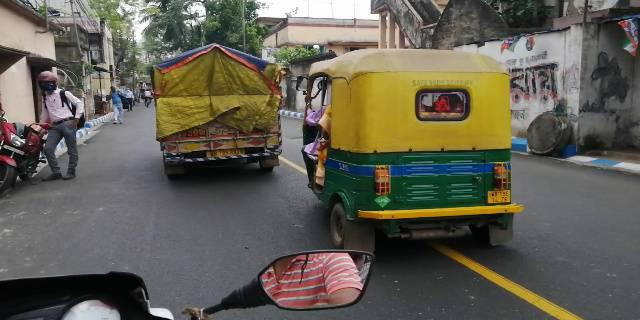Autorickshaw: (303, 46, 519, 263)
Minitruck: (146, 42, 288, 180)
Motorbike: (1, 111, 46, 197)
